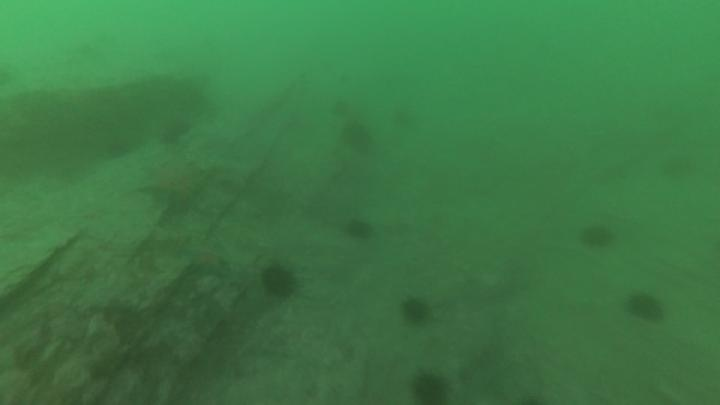echinus: (259, 261, 300, 301), (624, 289, 667, 326), (408, 369, 451, 404), (657, 150, 698, 184), (338, 119, 375, 156), (577, 221, 617, 252), (398, 294, 434, 328), (157, 115, 193, 146), (341, 215, 376, 243), (102, 136, 134, 163), (389, 103, 419, 131), (329, 97, 353, 120)
starfish: (137, 158, 209, 218), (181, 243, 231, 281)
